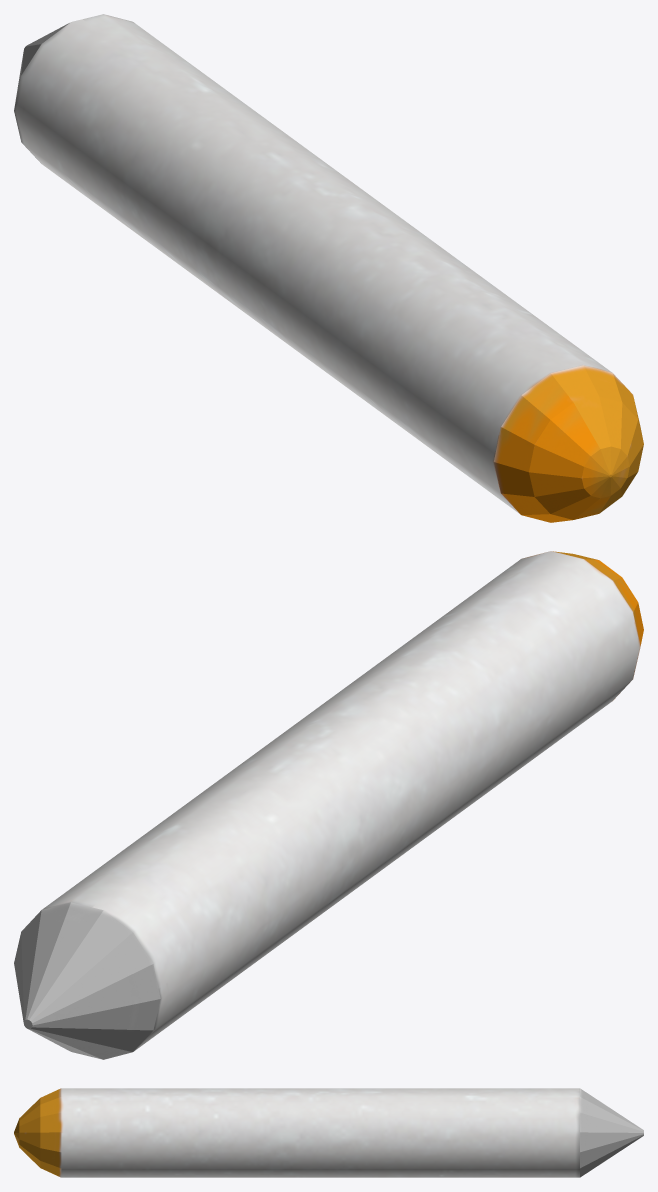
The model's file is digital pen.fbx.
3 views of the same model, one above another, from view 1: azimuth 30°, elevation 25°; view 2: azimuth 150°, elevation 25°; view 3: azimuth 270°, elevation 25° (orthographic). The views are drawn at different scales.
Visible parts, largest first — view 1: Cylinder003; view 2: Cylinder003; view 3: Cylinder003.
Boxes of the visible parts, <box> form: Cylinder003: <box>14,14,643,522</box>; Cylinder003: <box>14,551,643,1059</box>; Cylinder003: <box>14,1088,643,1177</box>.
Size of the model in its own units: 1.08 by 1.05 by 7.41.
1 material, 1 textured.
